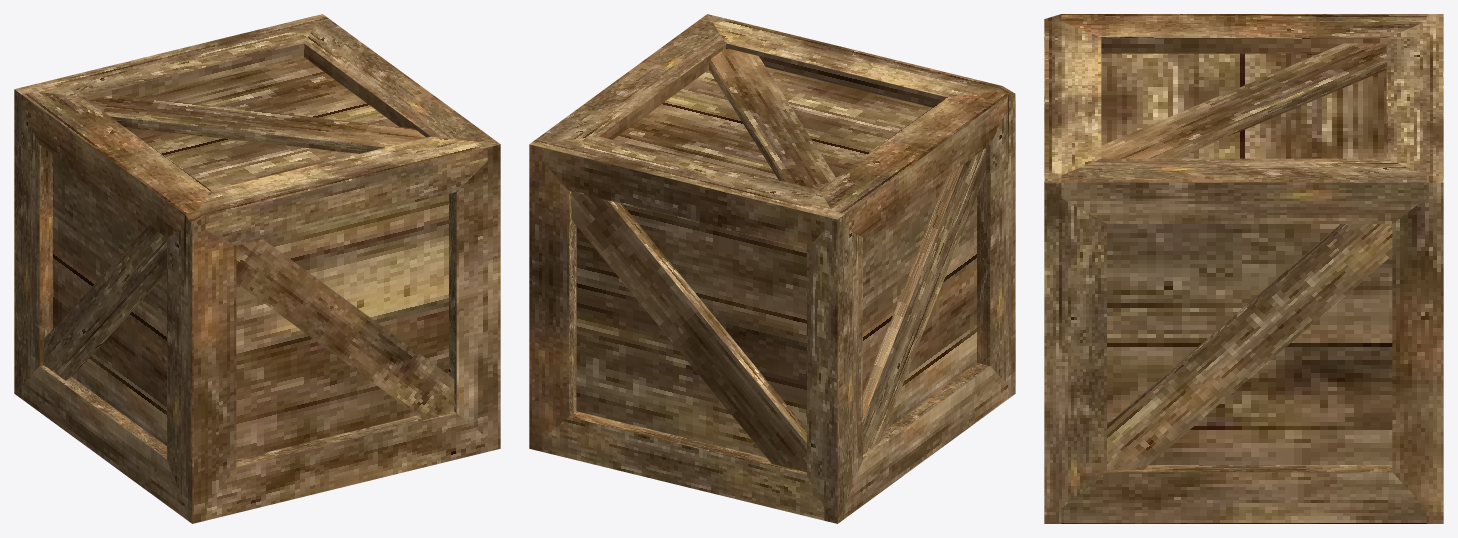
Rendered from sh-caisse.glb.
3 views of the same model, side by side, from view 1: azimuth 30°, elevation 25°; view 2: azimuth 150°, elevation 25°; view 3: azimuth 270°, elevation 25° (orthographic). The views are drawn at different scales.
Bounding box in the file's own units: 1 × 0.9429 × 1.
Materials: 1 (1 with a texture image).
